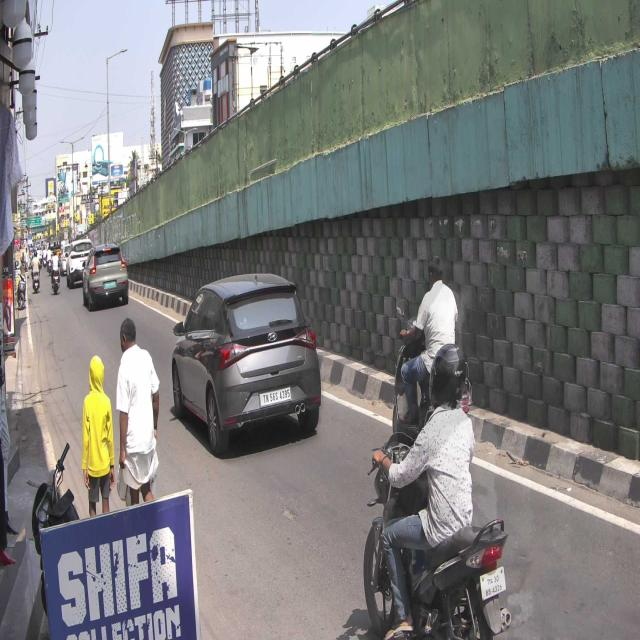single_rider: (363, 344, 513, 640)
